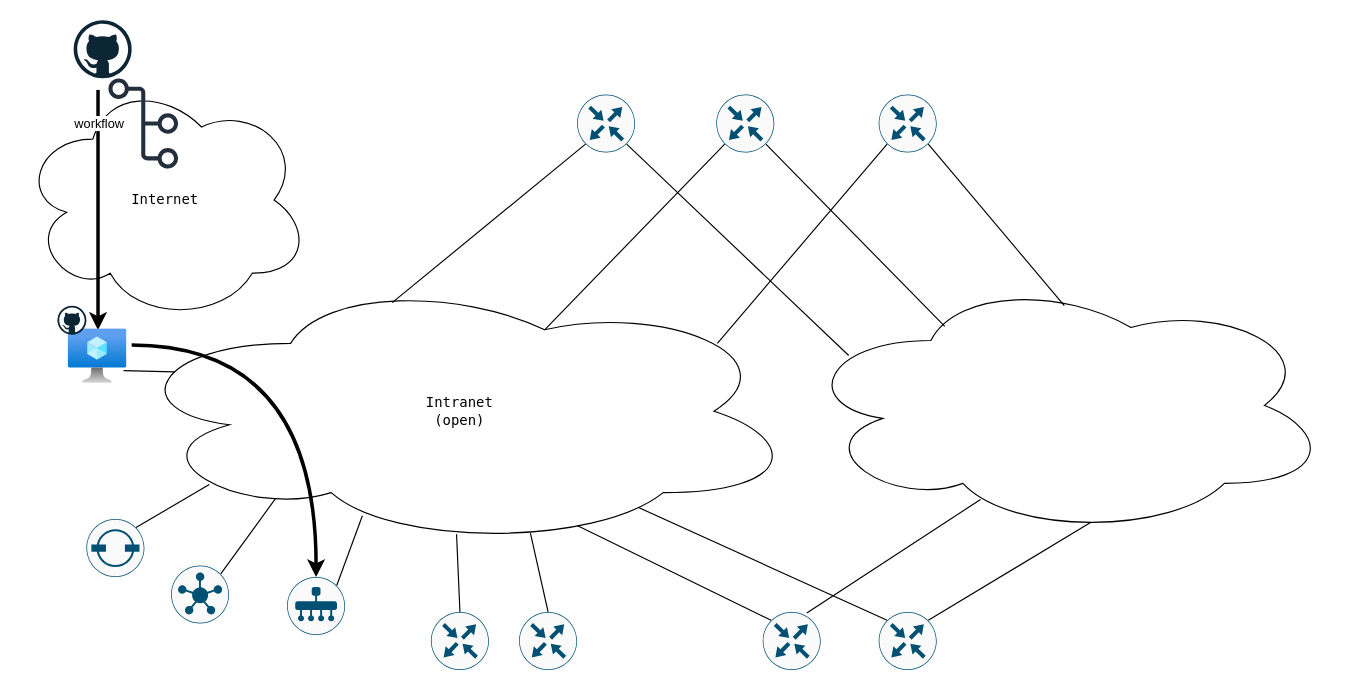
The diagram is 1351 pixels wide and 690 high, and some of its shapes have lost their labels. The shapes that lost their labels are listed below. From the top down, each one's centre as x and y in pixels, then its label:
At [97,355]: "self-hosted runner".
At [1063,404]: "Intranet (secured)".
